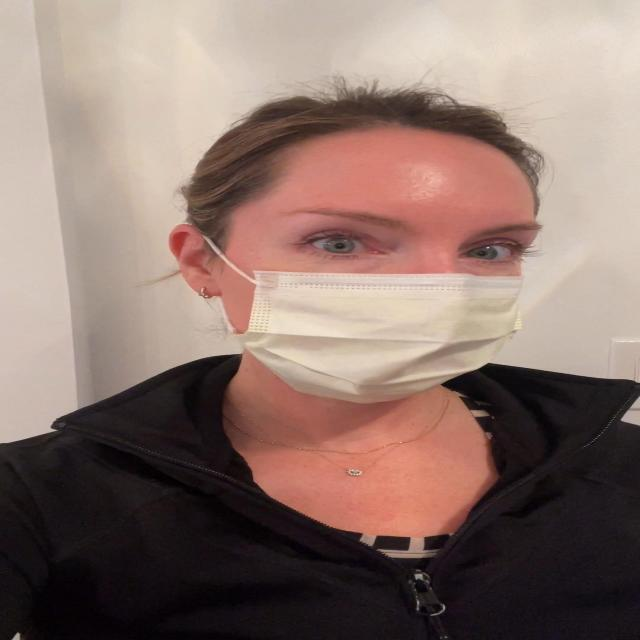no hat: (142, 101, 574, 417)
